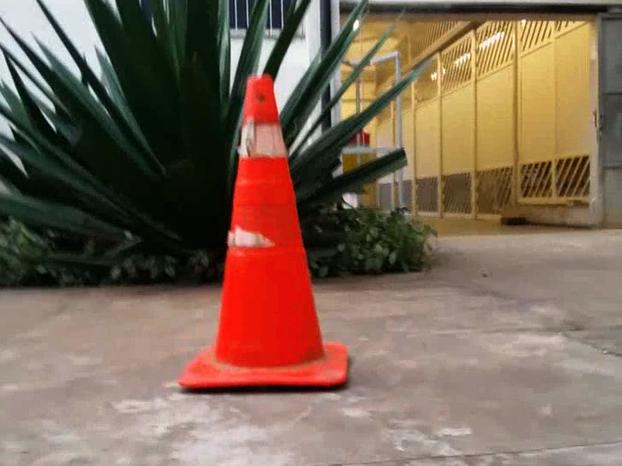0 cone: (178, 77, 346, 387)
